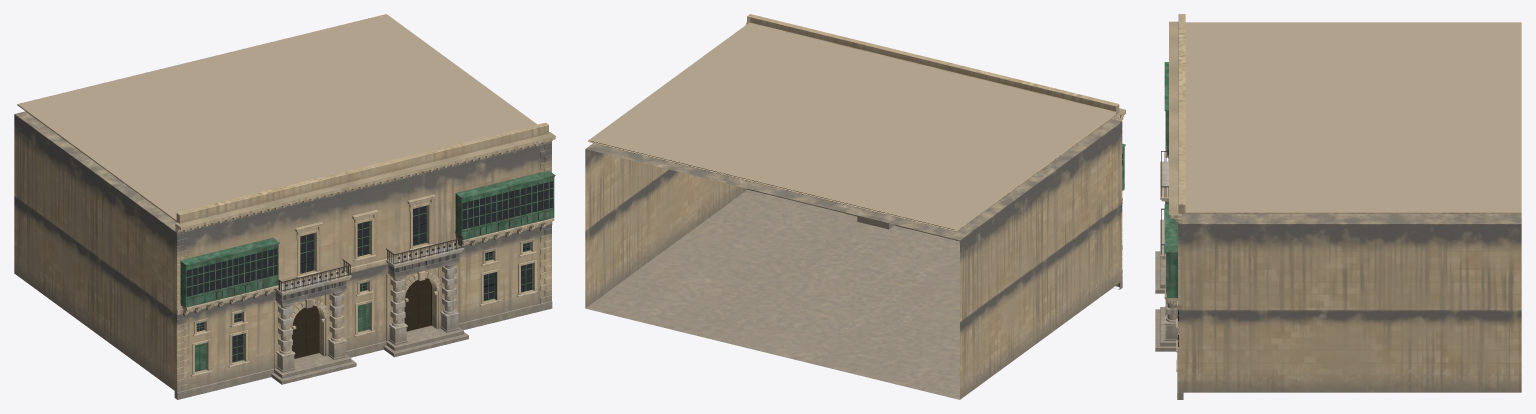
Rendered from palace-BgqvFugY.glb.
The picture shows the model from 3 angles, left to right: view 1: azimuth 30°, elevation 25°; view 2: azimuth 150°, elevation 25°; view 3: azimuth 270°, elevation 25°; orthographic projection. The views are drawn at different scales.
Visible parts, largest first — view 1: palace, palace_roof, palace_flat; view 2: palace, palace_roof; view 3: palace, palace_roof.
Boxes of the visible parts, box(x1,y1,x2,y2) form: palace: box(14, 104, 555, 399); palace_roof: box(18, 14, 537, 219); palace_flat: box(186, 181, 552, 361); palace: box(585, 14, 1126, 399); palace_roof: box(588, 23, 1115, 230); palace: box(1155, 14, 1521, 399); palace_roof: box(1185, 22, 1521, 212).
Size of the model in its own units: 40 by 18.75 by 32.05.
6 materials, 1 textured.
